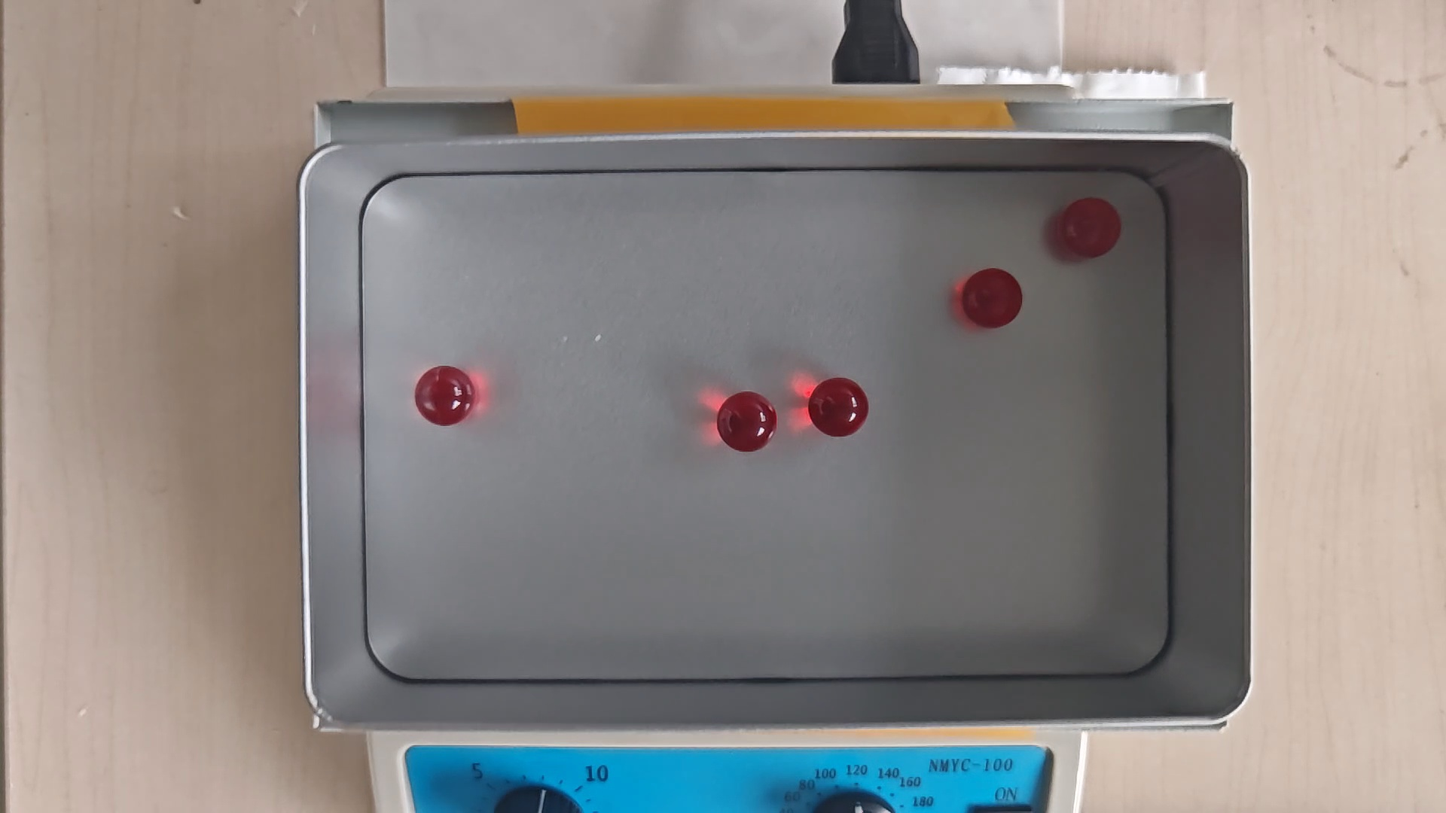ball: (1059, 196, 1121, 258), (807, 377, 870, 438), (416, 365, 476, 428), (717, 391, 777, 453), (963, 267, 1022, 329)
container: (361, 168, 1172, 677)
